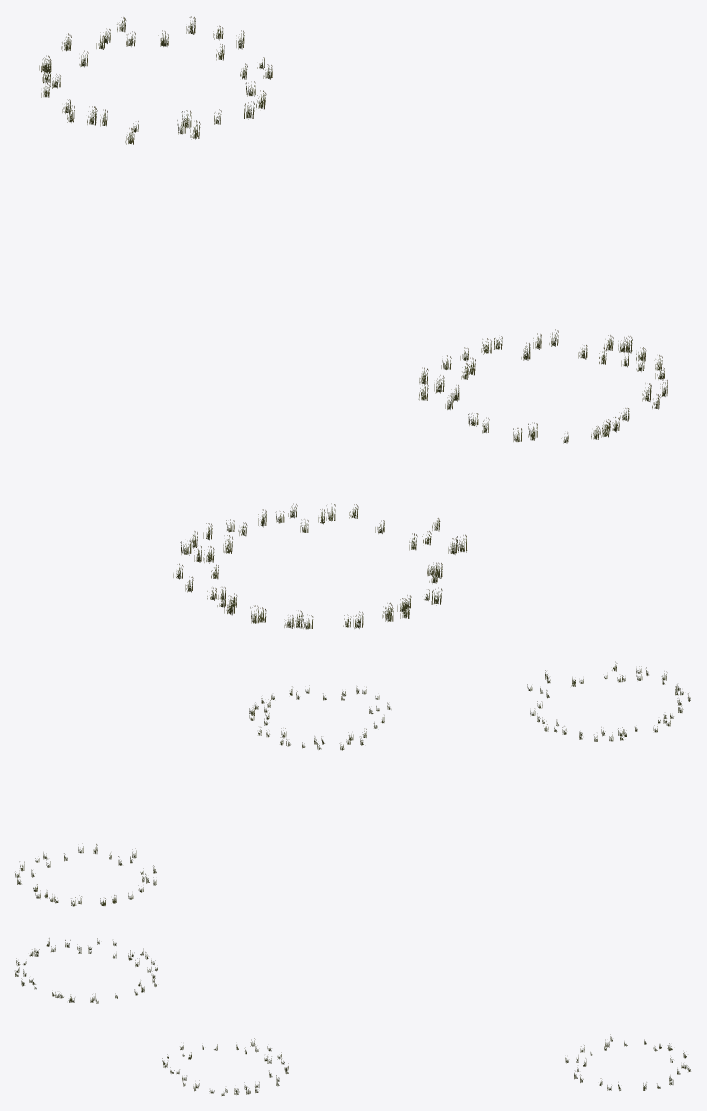
Rendered from SM_Art_Cover_L_CrystalPassage_Reeds.gltf.
3 views of the same model, one above another, from view 1: azimuth 30°, elevation 25°; view 2: azimuth 150°, elevation 25°; view 3: azimuth 270°, elevation 25° (orthographic). The views are drawn at different scales.
Parts seen in each view (by area): view 1: SM_Art_Cover_L_CrystalPassage_Reeds; view 2: SM_Art_Cover_L_CrystalPassage_Reeds; view 3: SM_Art_Cover_L_CrystalPassage_Reeds.
Part boxes in pixels (x1,y1,x2,y2): SM_Art_Cover_L_CrystalPassage_Reeds: [39, 16, 667, 629]; SM_Art_Cover_L_CrystalPassage_Reeds: [15, 661, 690, 906]; SM_Art_Cover_L_CrystalPassage_Reeds: [15, 938, 690, 1095].
Size of the model in its own units: 53.69 by 3.23 by 104.
1 material, 1 textured.
